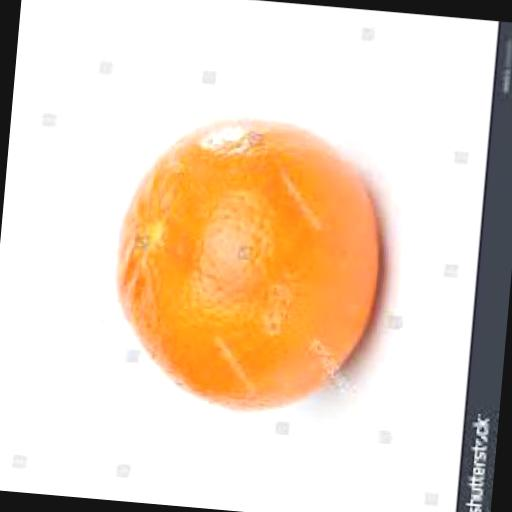biodegradable: (100, 110, 394, 423)
